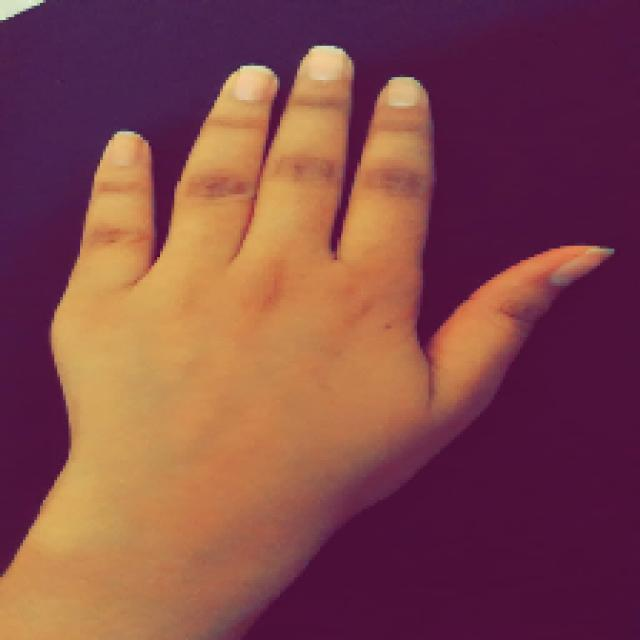Nail: (549, 246, 614, 287), (304, 46, 348, 81), (232, 66, 270, 102), (110, 131, 140, 166), (385, 78, 420, 108)
